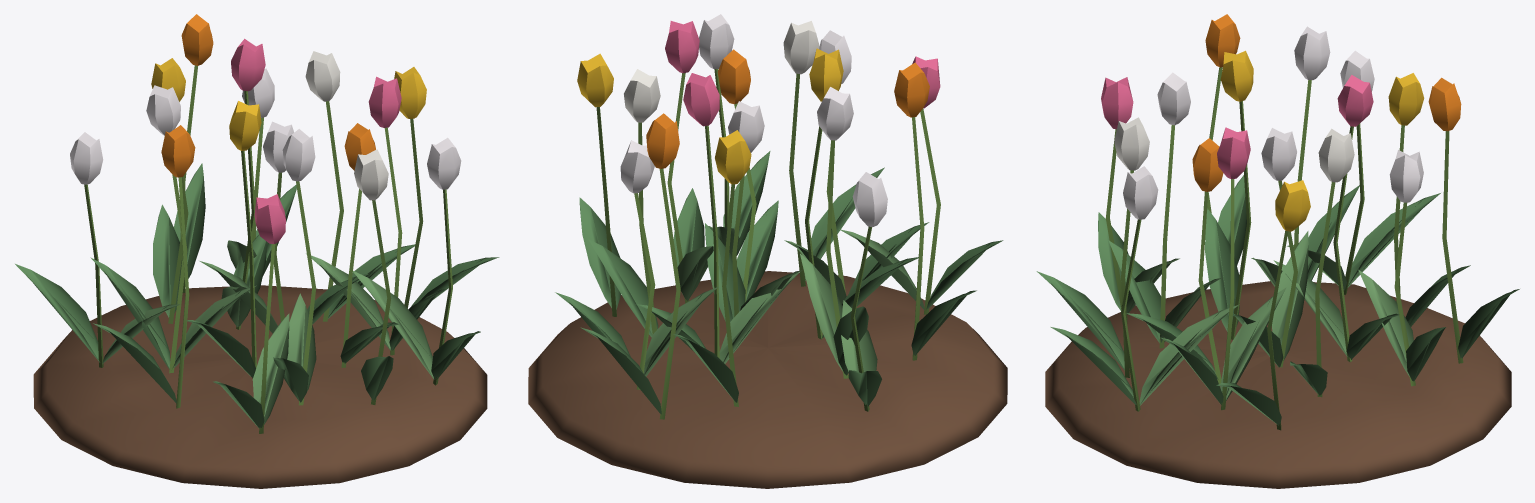
The model's file is tulips.glb.
The picture shows the model from 3 angles, left to right: view 1: azimuth 30°, elevation 25°; view 2: azimuth 150°, elevation 25°; view 3: azimuth 270°, elevation 25°; orthographic projection. The views are drawn at different scales.
Visible parts, largest first — view 1: tulips; view 2: tulips; view 3: tulips.
Part boxes in pixels (x1=…): tulips: x1=15, y1=14, x2=499, y2=488; tulips: x1=528, y1=14, x2=1007, y2=488; tulips: x1=1036, y1=14, x2=1519, y2=488.
Size of the model in its own units: 0.84 by 0.622 by 0.843.
